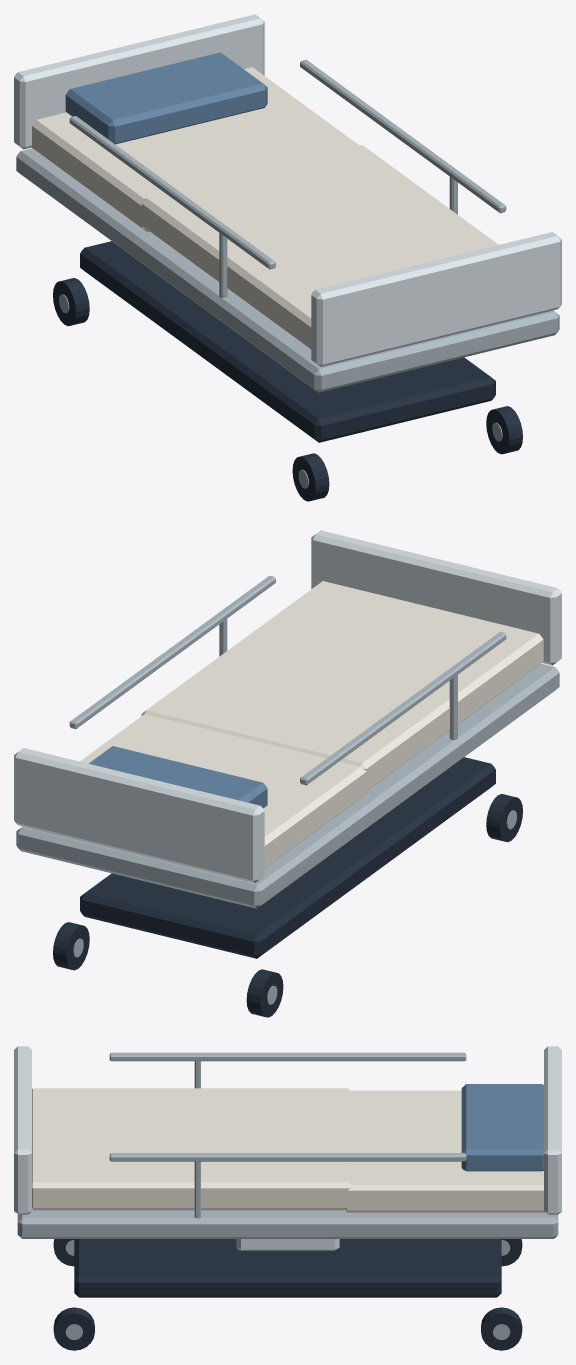
File: ward_01.glb
The picture shows the model from 3 angles, top to bottom: view 1: azimuth 30°, elevation 25°; view 2: azimuth 150°, elevation 25°; view 3: azimuth 270°, elevation 25°; orthographic projection. The views are drawn at different scales.
Parts seen in each view (by area): view 1: FixedMattress, BedEnd (×2), BedBase, Backrest, BedFrame, Pillow, BedRail (×2), Wheel (×3); view 2: FixedMattress, BedEnd (×2), BedBase, BedFrame, Backrest, BedRail (×2), Pillow, Wheel (×3); view 3: FixedMattress, BedBase, Backrest, BedFrame, Pillow, BedRail (×2), BedEnd (×2), Wheel (×4), LiftColumn, RailPost.
Part boxes in pixels (<box>): FixedMattress: <box>141,145,498,349</box>; BedEnd (×2): <box>14,14,561,366</box>; BedBase: <box>80,241,495,442</box>; Backrest: <box>31,67,359,231</box>; BedFrame: <box>16,148,559,392</box>; Pillow: <box>65,52,267,144</box>; BedRail (×2): <box>69,59,506,269</box>; Wheel (×3): <box>53,278,522,501</box>; FixedMattress: <box>141,581,543,790</box>; BedEnd (×2): <box>14,530,561,882</box>; BedBase: <box>80,757,495,958</box>; BedFrame: <box>16,663,559,908</box>; Backrest: <box>31,714,367,881</box>; BedRail (×2): <box>69,575,506,785</box>; Pillow: <box>88,746,267,808</box>; Wheel (×3): <box>53,794,522,1017</box>; FixedMattress: <box>32,1088,350,1210</box>; BedBase: <box>74,1239,501,1297</box>; Backrest: <box>344,1090,544,1212</box>; BedFrame: <box>17,1209,558,1238</box>; Pillow: <box>461,1084,543,1171</box>; BedRail (×2): <box>109,1052,466,1161</box>; BedEnd (×2): <box>14,1046,561,1214</box>; Wheel (×4): <box>53,1239,522,1350</box>; LiftColumn: <box>236,1239,339,1250</box>; RailPost: <box>194,1161,200,1218</box>.
Bounding box in the file's own units: 0.98 × 0.89 × 2.13.
